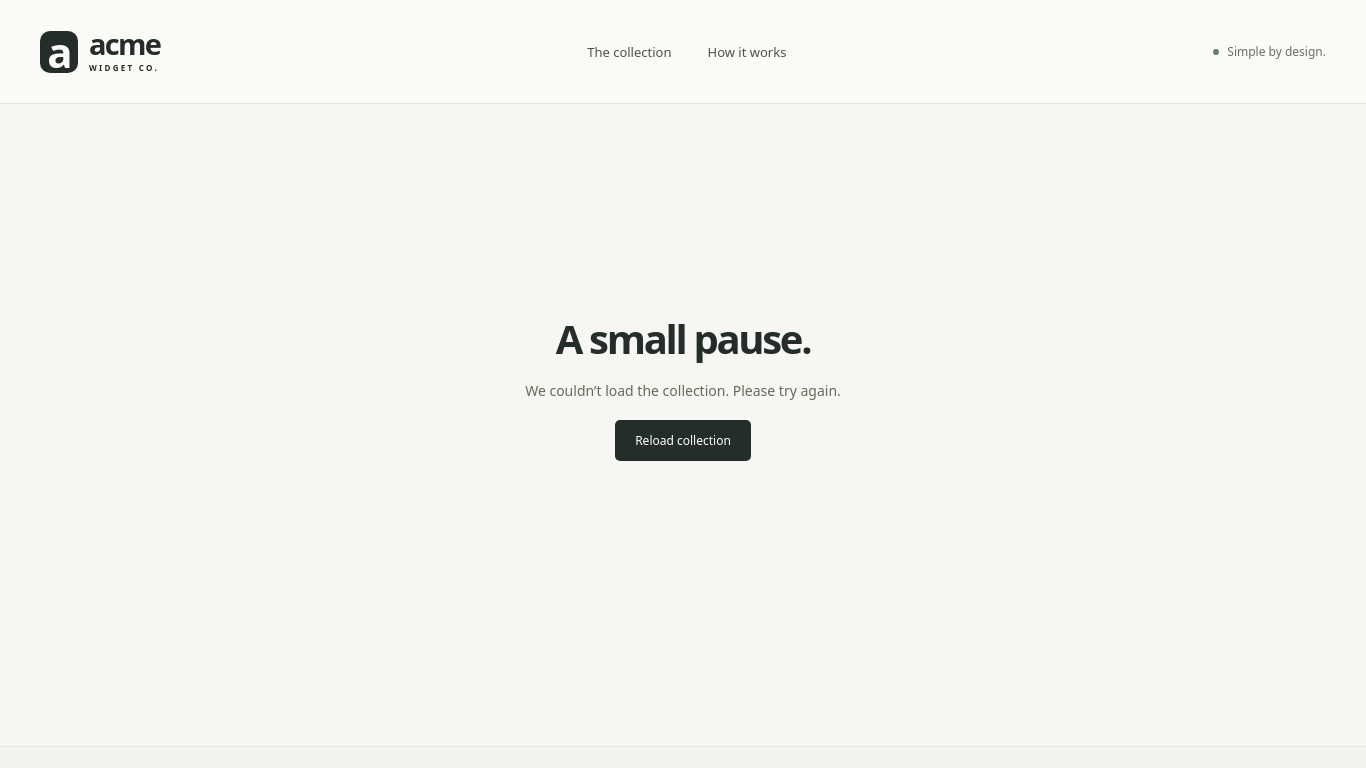
it: storefront › provides an actionable catalog failure state
This screenshot has width=1366, height=768.
Expected: the message shows "We couldn’t load the collection", [525,381,841,400]
Click the button "Reload collection" at (683, 440), box [615,420,751,461]
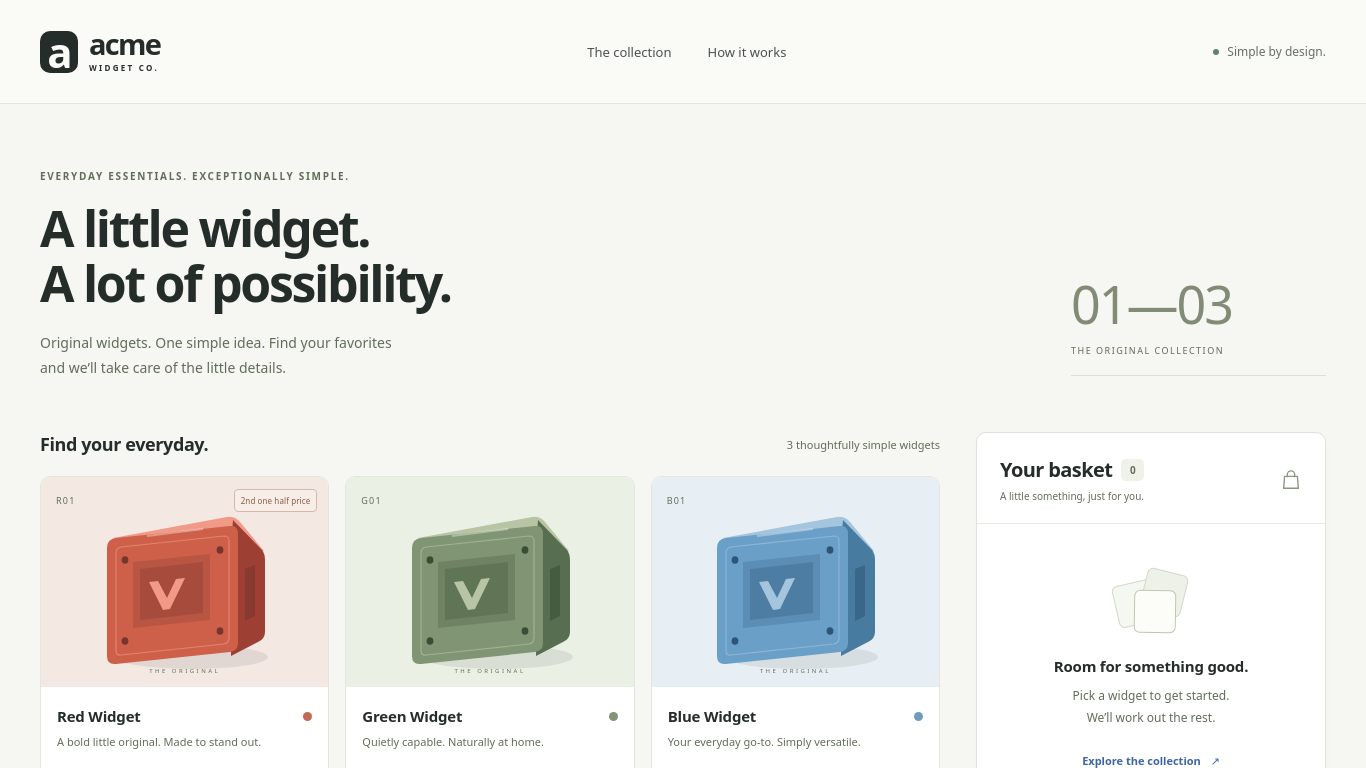
Expected: the heading "Find your everyday." is shown, [40,432,208,456]
